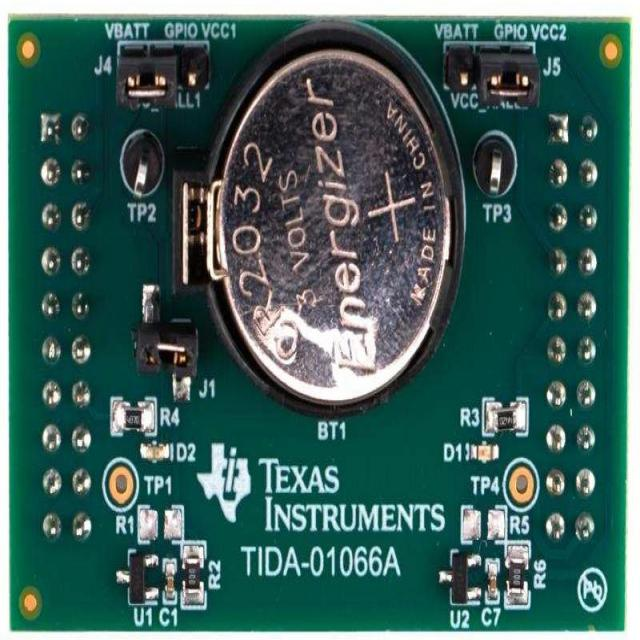4439: (120, 543, 158, 623), (441, 550, 480, 621)
LED: (146, 440, 168, 466), (476, 444, 498, 463)
battery: (204, 42, 452, 402)
capacitor 1V5: (489, 569, 501, 616), (163, 562, 175, 604)
connector -5v-: (116, 40, 214, 100), (456, 43, 539, 103), (142, 327, 199, 383)
resistor IR1: (108, 408, 157, 436), (504, 554, 528, 600), (492, 402, 523, 432), (187, 554, 203, 604)
